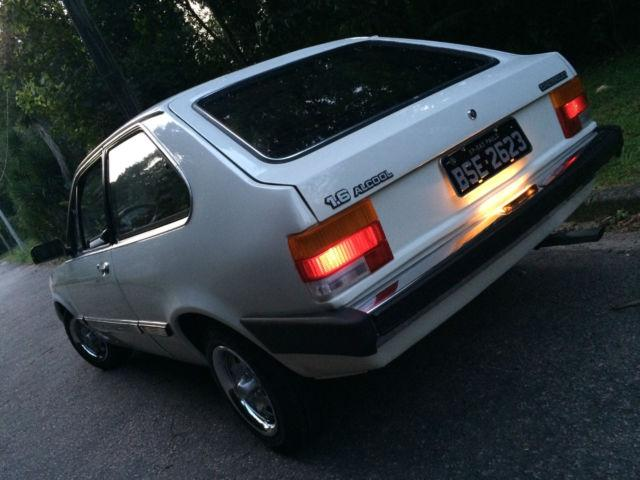chevette-1983: (32, 37, 622, 450)
